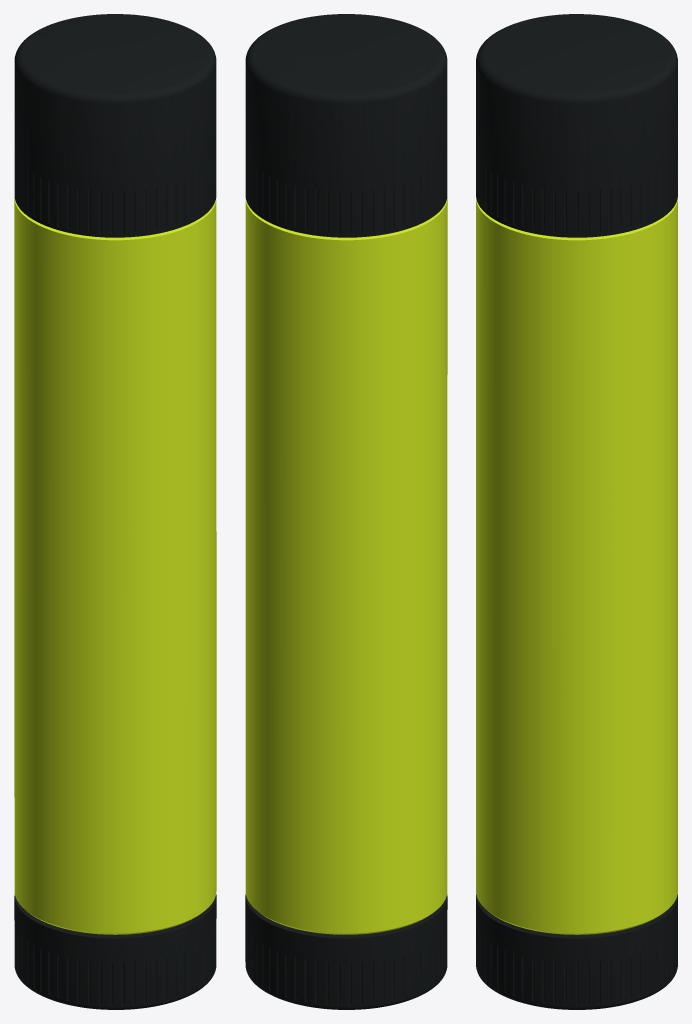
The model's file is stick.glb.
3 views of the same model, side by side, from view 1: azimuth 30°, elevation 25°; view 2: azimuth 150°, elevation 25°; view 3: azimuth 270°, elevation 25° (orthographic).
Parts seen in each view (by area): view 1: Gehaeuse, Schraubkappe, Drehfuss; view 2: Gehaeuse, Schraubkappe, Drehfuss; view 3: Gehaeuse, Schraubkappe, Drehfuss.
Boxes of the visible parts, <box> form: Gehaeuse: <box>14,198,216,934</box>; Schraubkappe: <box>14,14,216,237</box>; Drehfuss: <box>14,894,216,1009</box>; Gehaeuse: <box>245,198,447,934</box>; Schraubkappe: <box>245,14,447,237</box>; Drehfuss: <box>245,894,447,1009</box>; Gehaeuse: <box>476,197,677,934</box>; Schraubkappe: <box>476,14,677,237</box>; Drehfuss: <box>476,894,677,1009</box>.
Bounding box in the file's own units: 0.028 × 0.14 × 0.028.
